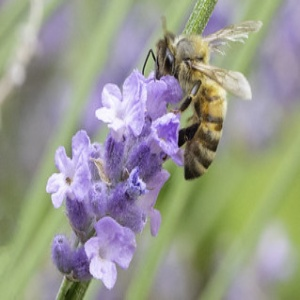bee: (140, 20, 269, 189)
